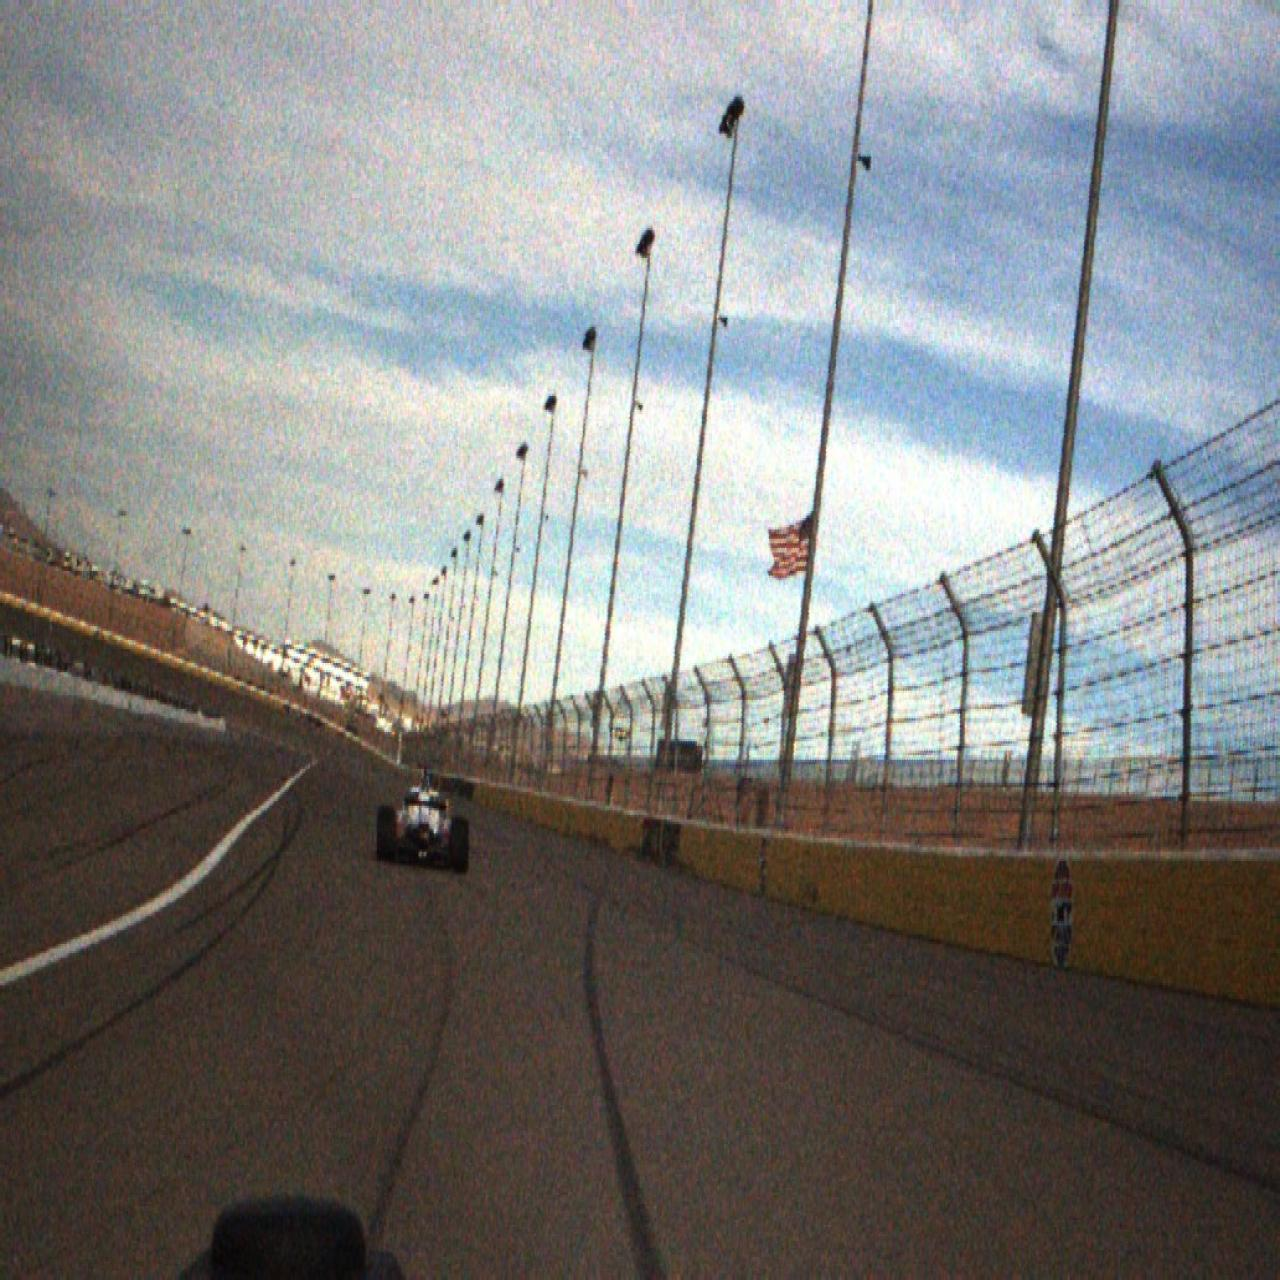AV: (377, 762, 469, 874)
Wheel: (377, 805, 396, 863), (452, 817, 469, 873)
